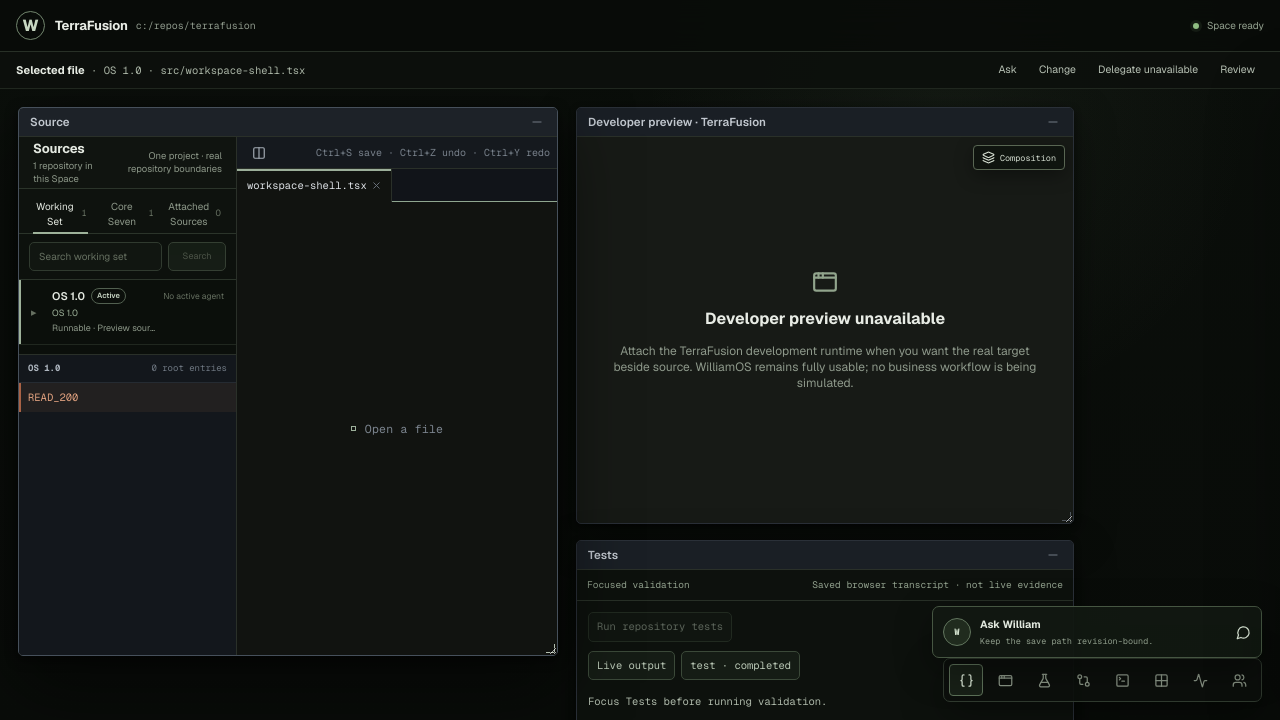
Test: durable William conversation rail › does not attach browser tool history to an unrelated William question
This screenshot has width=1280, height=720.
Click the button with aria-label "Open William conversation".
click(1097, 632)  # box [932,606,1262,658]
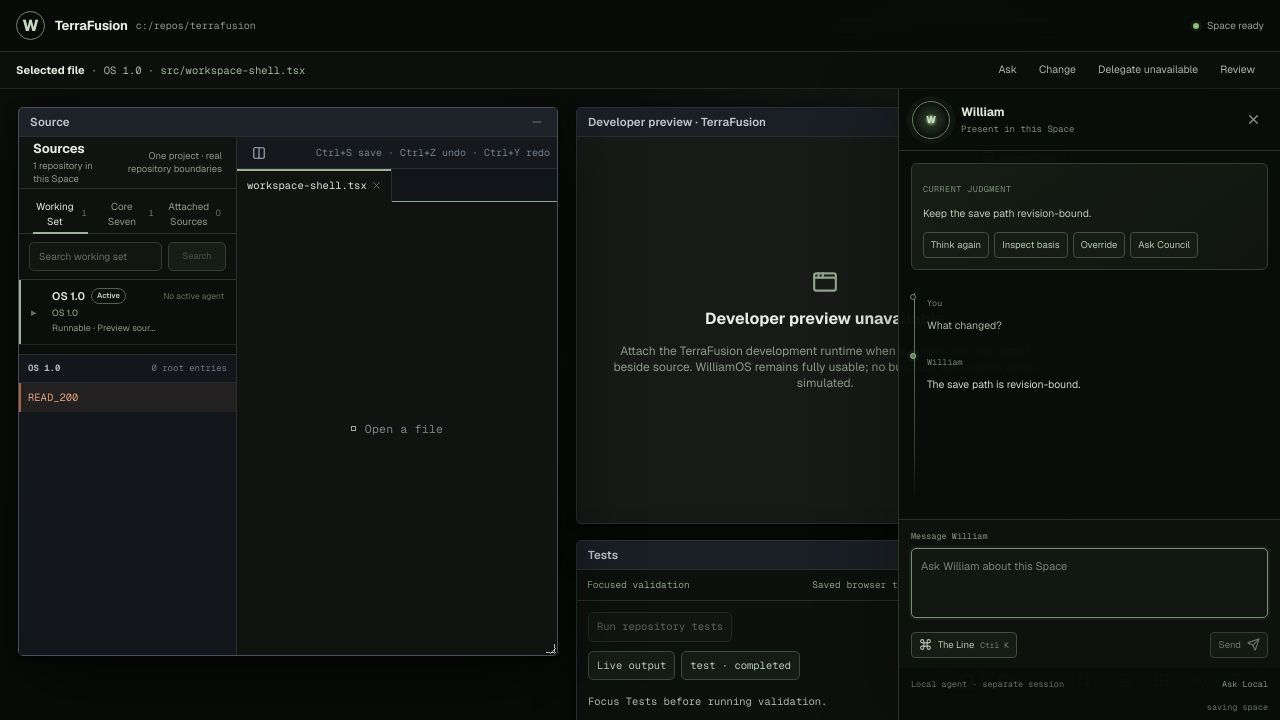
Type "What should I inspect next?" into the text box labelled "Message William".
click(1090, 583); type("What should I inspect next?")  # box [911,548,1268,618]
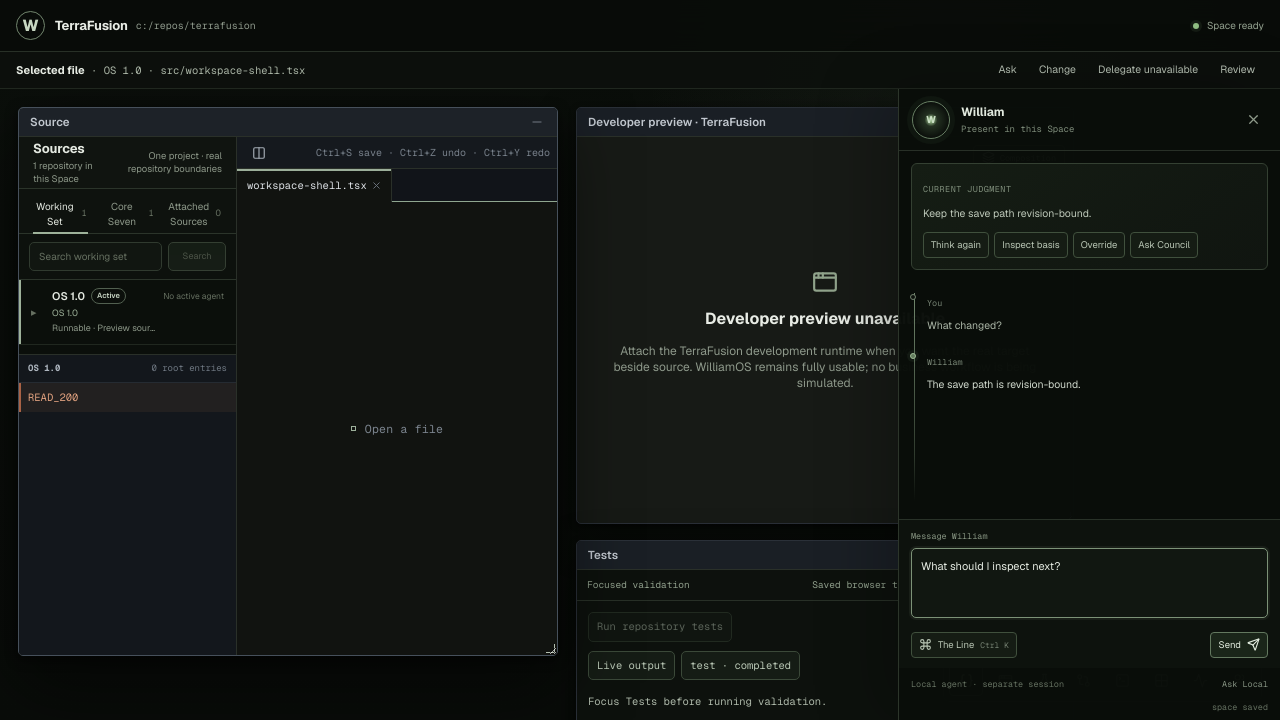
Click the button with aria-label "Send to William".
click(1239, 645)  # box [1210,632,1268,658]
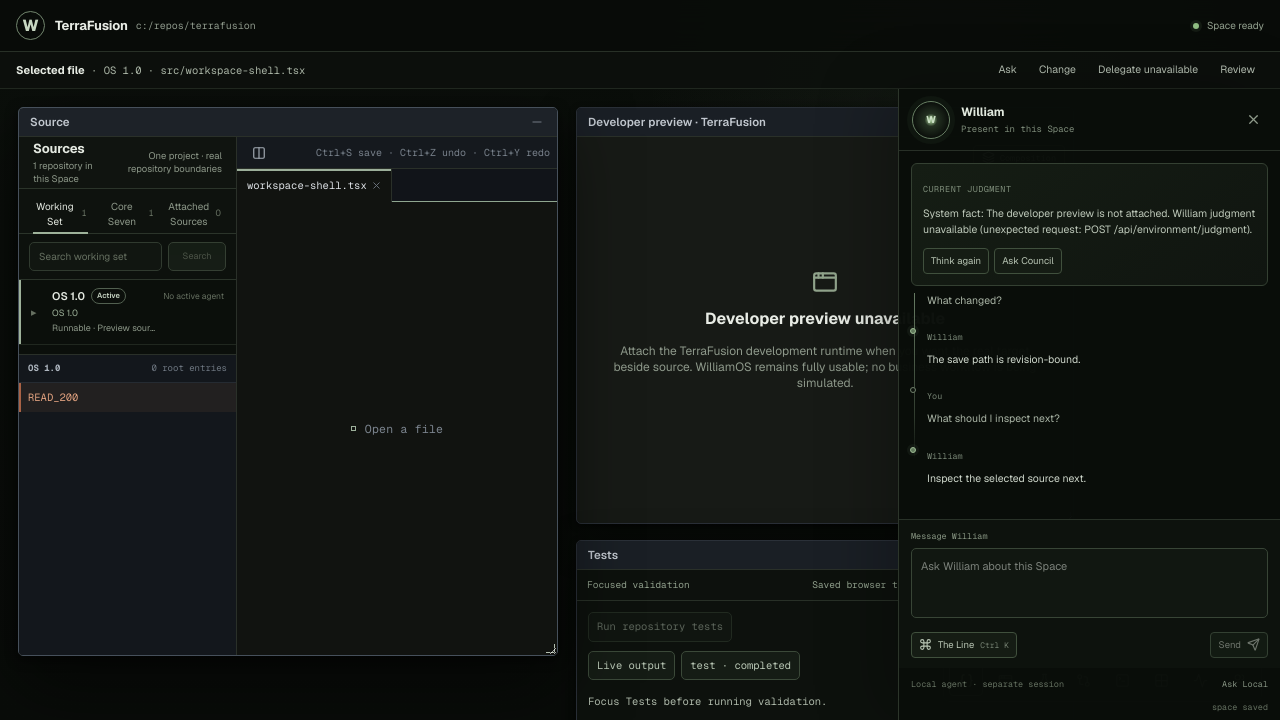
Now the text "Inspect the selected source next." is shown, box [927,470,1086,484]
